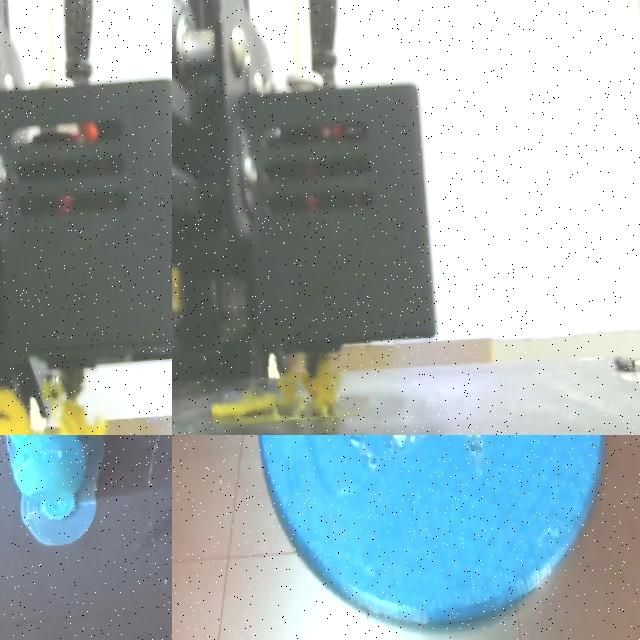spaghetti: (211, 357, 340, 423), (0, 389, 104, 435)
